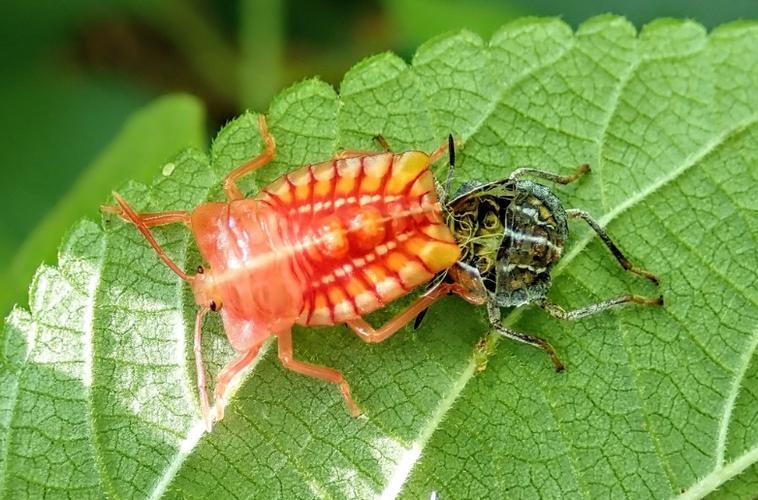Stink_Bug: (167, 144, 467, 317), (444, 160, 625, 332)
